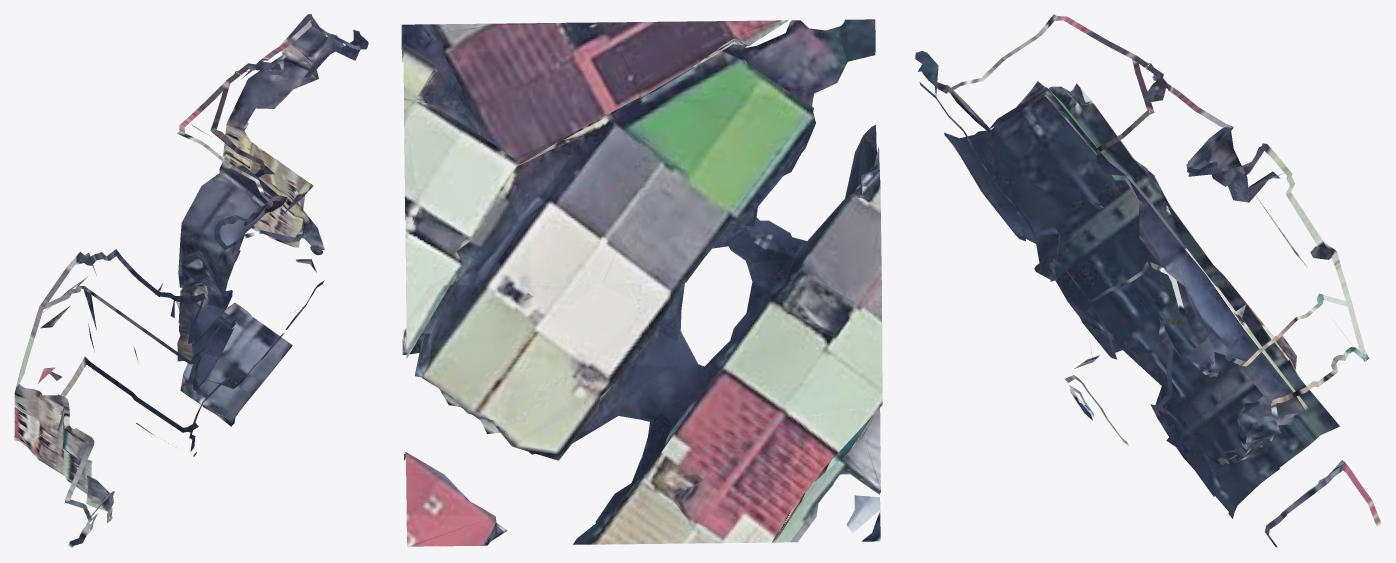
3 renders of one model, left to right at view 1: azimuth 30°, elevation 25°; view 2: azimuth 150°, elevation 25°; view 3: azimuth 270°, elevation 25°, orthographic. The views are drawn at different scales.
Size of the model in its own units: 37.97 by 39.66 by 36.57.
2 materials, 2 textured.
